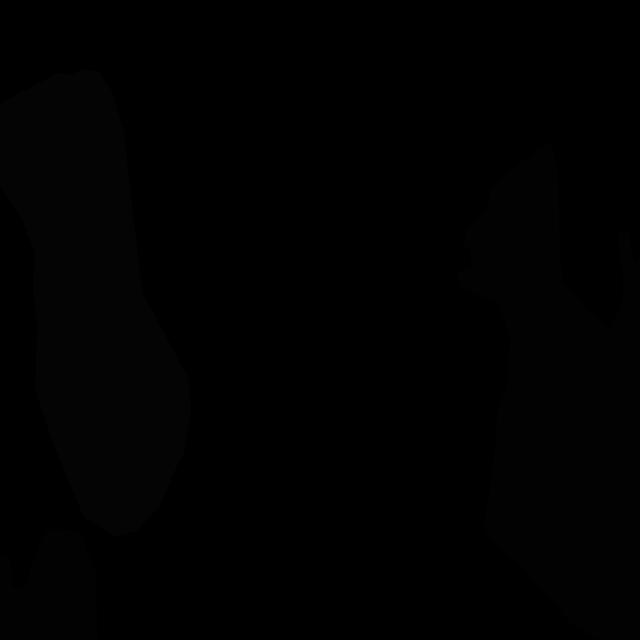cardboard: (456, 143, 640, 640), (0, 529, 98, 640), (610, 230, 640, 355)
soft_plastic: (0, 69, 192, 537)
